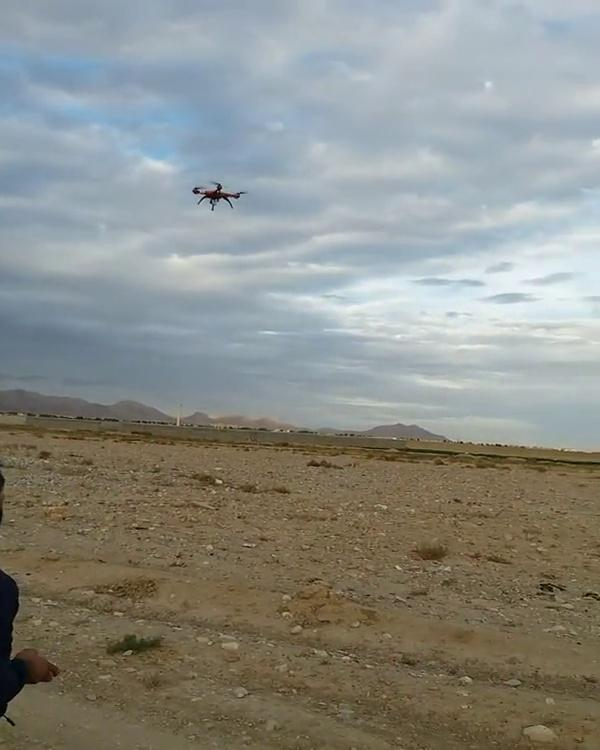drone: (187, 174, 251, 215)
